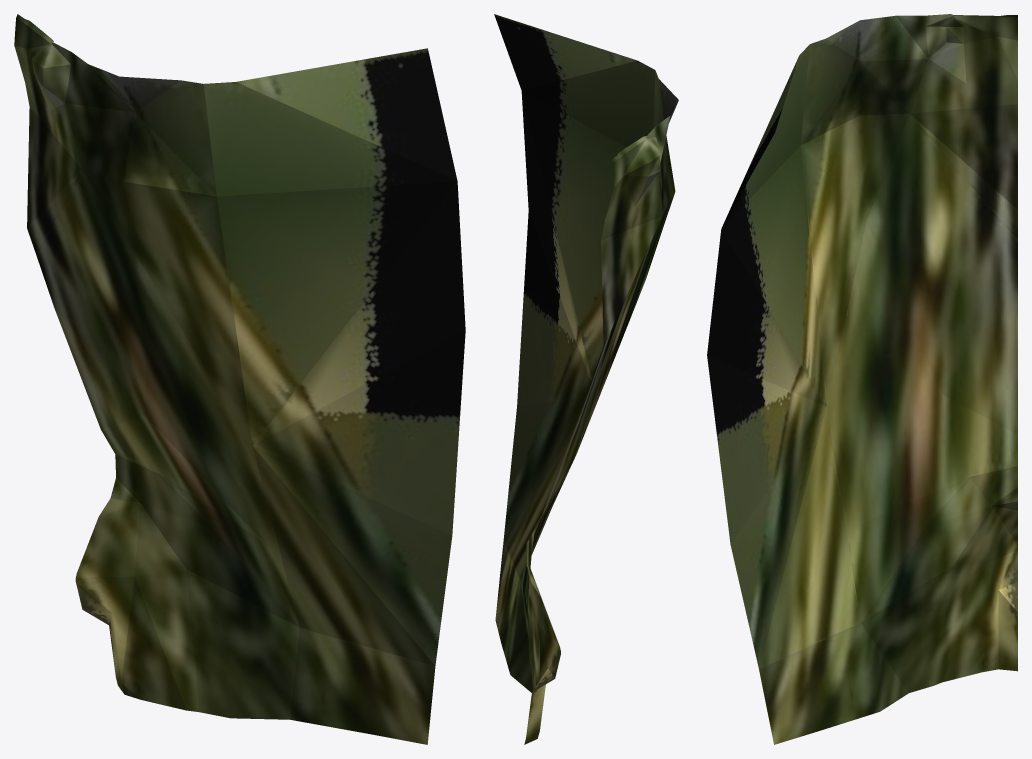
The picture shows the model from 3 angles, left to right: view 1: azimuth 30°, elevation 25°; view 2: azimuth 150°, elevation 25°; view 3: azimuth 270°, elevation 25°; orthographic projection. The views are drawn at different scales.
Size of the model in its own units: 0.7256 by 1.67 by 0.7696.
Materials: 2 (2 with a texture image).
